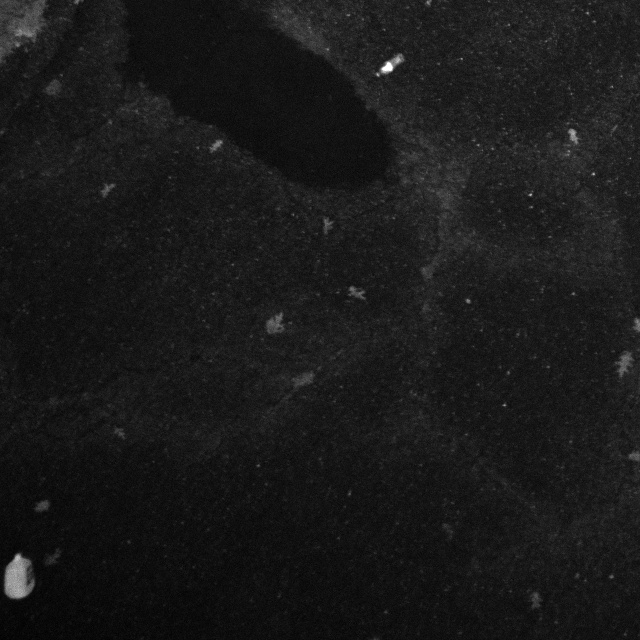bottle: (365, 50, 406, 81)
